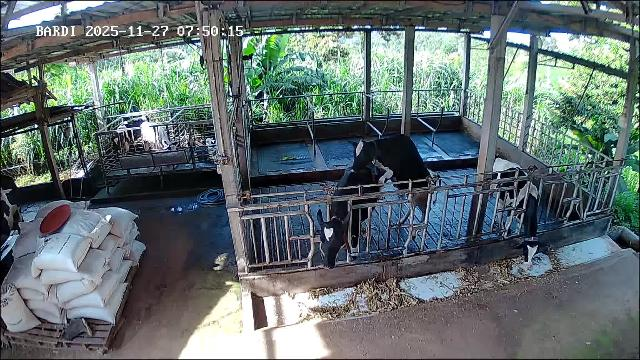mounting: (349, 134, 441, 237)
